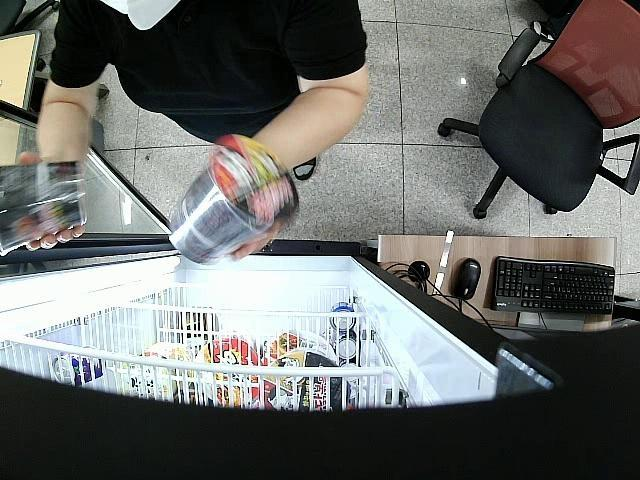08_buldak_S: (167, 135, 300, 264), (0, 160, 88, 256)
